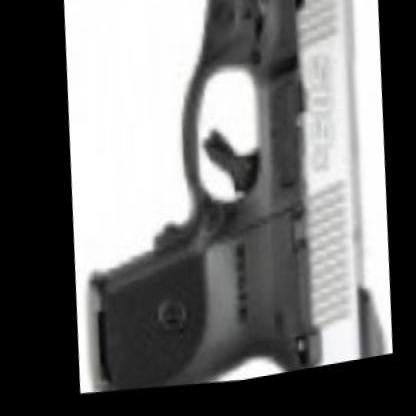pistol: (70, 0, 407, 405)
